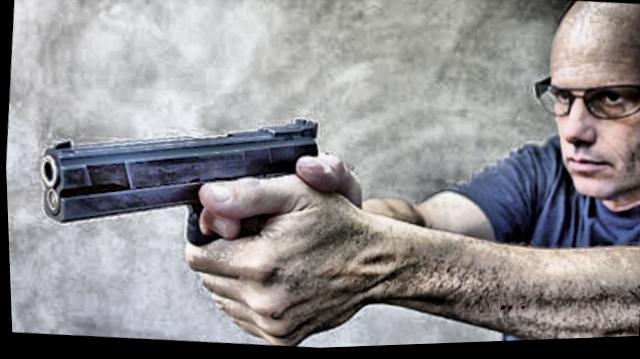pistol: (27, 91, 326, 267)
